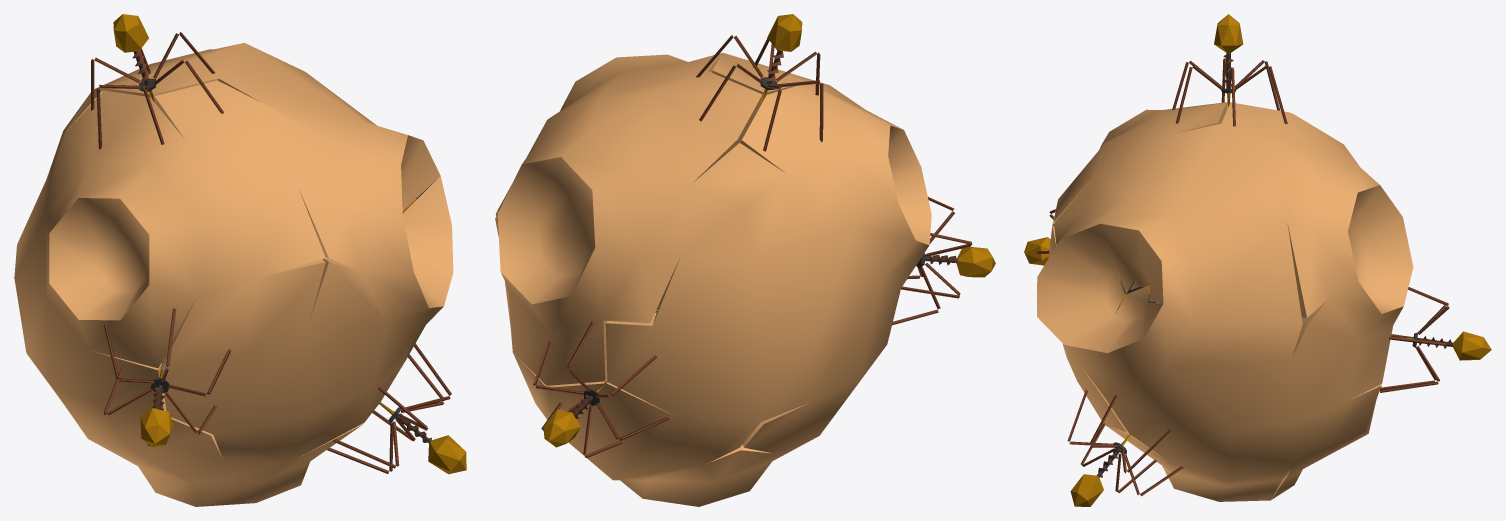
Rendered from Asteroid_TypeC_Geophage.fbx.
3 views of the same model, side by side, from view 1: azimuth 30°, elevation 25°; view 2: azimuth 150°, elevation 25°; view 3: azimuth 270°, elevation 25° (orthographic). The views are drawn at different scales.
Visible parts, largest first — view 1: Asteroid_TypeC_Geophage_01; view 2: Asteroid_TypeC_Geophage_01; view 3: Asteroid_TypeC_Geophage_01.
Part boxes in pixels (bbox=[...]): Asteroid_TypeC_Geophage_01: bbox=[14, 14, 466, 506]; Asteroid_TypeC_Geophage_01: bbox=[495, 14, 995, 506]; Asteroid_TypeC_Geophage_01: bbox=[1024, 14, 1491, 506].
Size of the model in its own units: 0.8974 by 1.12 by 1.12.
